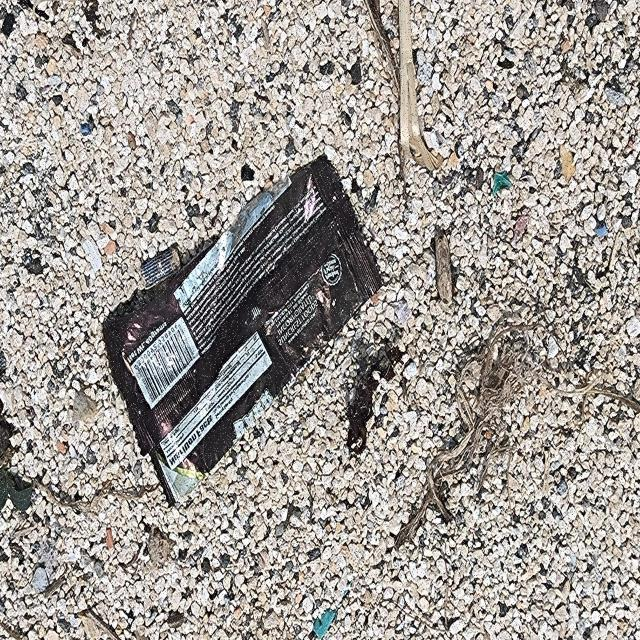plastic_waste: (102, 153, 387, 512)
